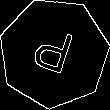P_S: (29, 23, 79, 83)
